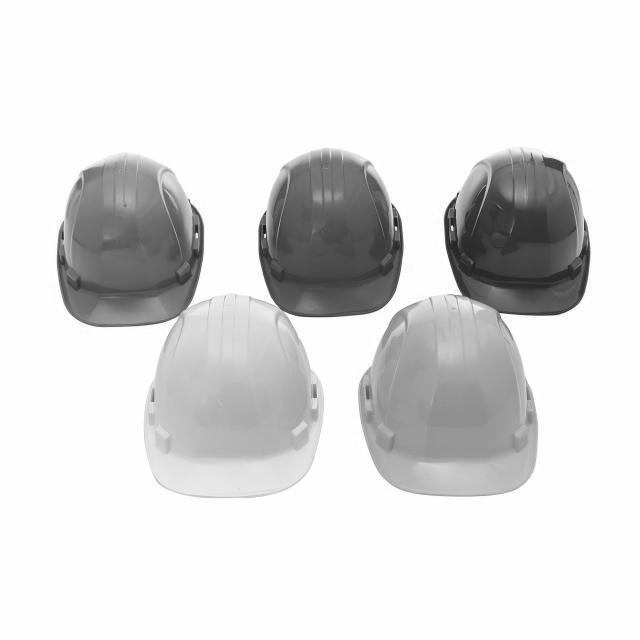safety_helmet: (356, 294, 540, 500), (142, 324, 319, 503)
